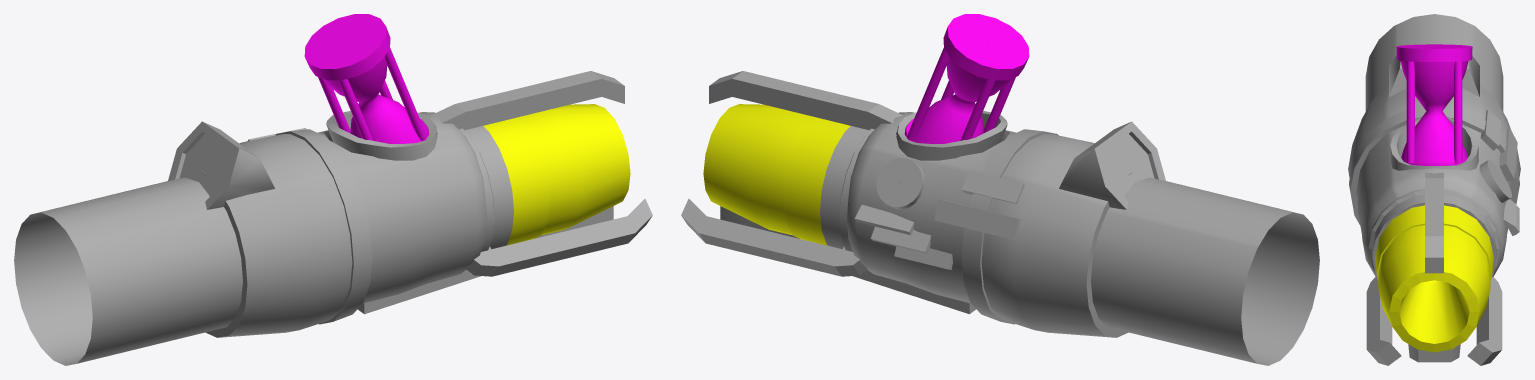
Rendered from Player Blaster V2_3.fbx.
3 renders of one model, left to right at view 1: azimuth 30°, elevation 25°; view 2: azimuth 150°, elevation 25°; view 3: azimuth 270°, elevation 25°, orthographic. The views are drawn at different scales.
Parts seen in each view (by area): view 1: pCylinder2, Barrel, Hourglass_Glass3, pCube4, pCube3, pCube7, Barrel1, pCylinder7, pCylinder4, pCylinder6, pCube1, Hourglass_Glass4 (+1 smaller); view 2: pCylinder2, Barrel, Hourglass_Glass3, pCube4, pCube3, pCube7, Barrel1, pCylinder7, pCylinder4, pCylinder6, pCylinder8, pCube5 (+7 smaller); view 3: pCylinder2, Barrel, Hourglass_Glass3, pCube7, pCylinder4, pCylinder7, Barrel1, pCube3, pCylinder6, pCube4, Hourglass_Glass4, Hourglass_Glass5 (+5 smaller).
Boxes of the visible parts, x1=… form: pCylinder2: x1=14, y1=112, x2=487, y2=365; Barrel: x1=519, y1=104, x2=630, y2=235; Hourglass_Glass3: x1=304, y1=14, x2=429, y2=143; pCube4: x1=168, y1=121, x2=274, y2=209; pCube3: x1=430, y1=71, x2=624, y2=130; pCube7: x1=466, y1=198, x2=652, y2=276; Barrel1: x1=483, y1=117, x2=550, y2=245; pCylinder7: x1=275, y1=129, x2=372, y2=324; pCylinder4: x1=459, y1=126, x2=513, y2=251; pCylinder6: x1=326, y1=111, x2=437, y2=160; pCube1: x1=357, y1=206, x2=613, y2=314; Hourglass_Glass4: x1=318, y1=48, x2=426, y2=140; pCylinder2: x1=846, y1=112, x2=1319, y2=365; Barrel: x1=703, y1=104, x2=814, y2=235; Hourglass_Glass3: x1=904, y1=14, x2=1029, y2=143; pCube4: x1=1059, y1=121, x2=1165, y2=209; pCube3: x1=709, y1=71, x2=903, y2=130; pCube7: x1=681, y1=198, x2=867, y2=276; Barrel1: x1=783, y1=117, x2=850, y2=245; pCylinder7: x1=961, y1=129, x2=1058, y2=324; pCylinder4: x1=820, y1=126, x2=874, y2=251; pCylinder6: x1=896, y1=111, x2=1007, y2=160; pCylinder8: x1=876, y1=158, x2=924, y2=209; pCube5: x1=934, y1=199, x2=1020, y2=240; pCylinder2: x1=1348, y1=14, x2=1520, y2=276; Barrel: x1=1378, y1=225, x2=1490, y2=352; Hourglass_Glass3: x1=1396, y1=44, x2=1472, y2=165; pCube7: x1=1366, y1=277, x2=1502, y2=365; pCylinder4: x1=1369, y1=189, x2=1499, y2=278; pCylinder7: x1=1349, y1=106, x2=1519, y2=225; Barrel1: x1=1375, y1=205, x2=1493, y2=280; pCube3: x1=1425, y1=172, x2=1443, y2=273; pCylinder6: x1=1390, y1=116, x2=1478, y2=170; pCube4: x1=1389, y1=56, x2=1479, y2=96; Hourglass_Glass4: x1=1406, y1=61, x2=1414, y2=163; Hourglass_Glass5: x1=1454, y1=61, x2=1462, y2=163.
Bounding box in the file's own units: 492 × 234 × 149.
